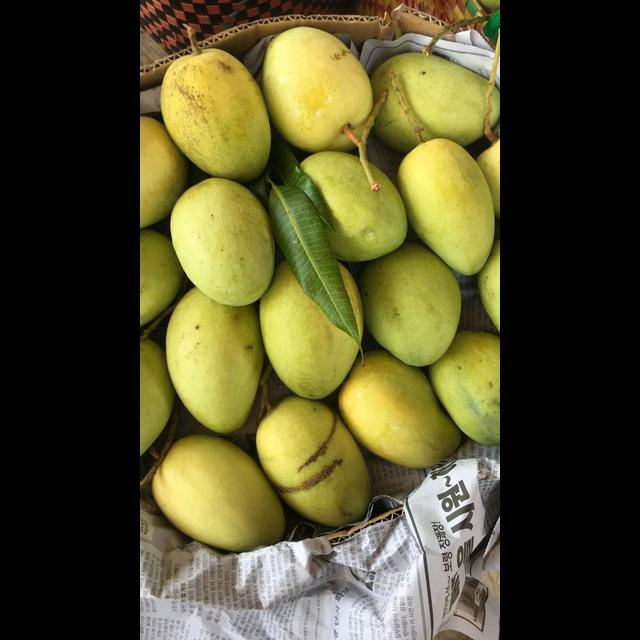xoai: (150, 435, 288, 551), (254, 400, 373, 526), (340, 354, 468, 468), (262, 25, 376, 152), (165, 286, 263, 433), (259, 262, 363, 398), (160, 50, 271, 177), (169, 177, 278, 306), (396, 138, 496, 275), (286, 151, 407, 260), (368, 51, 501, 143), (360, 252, 465, 367)
